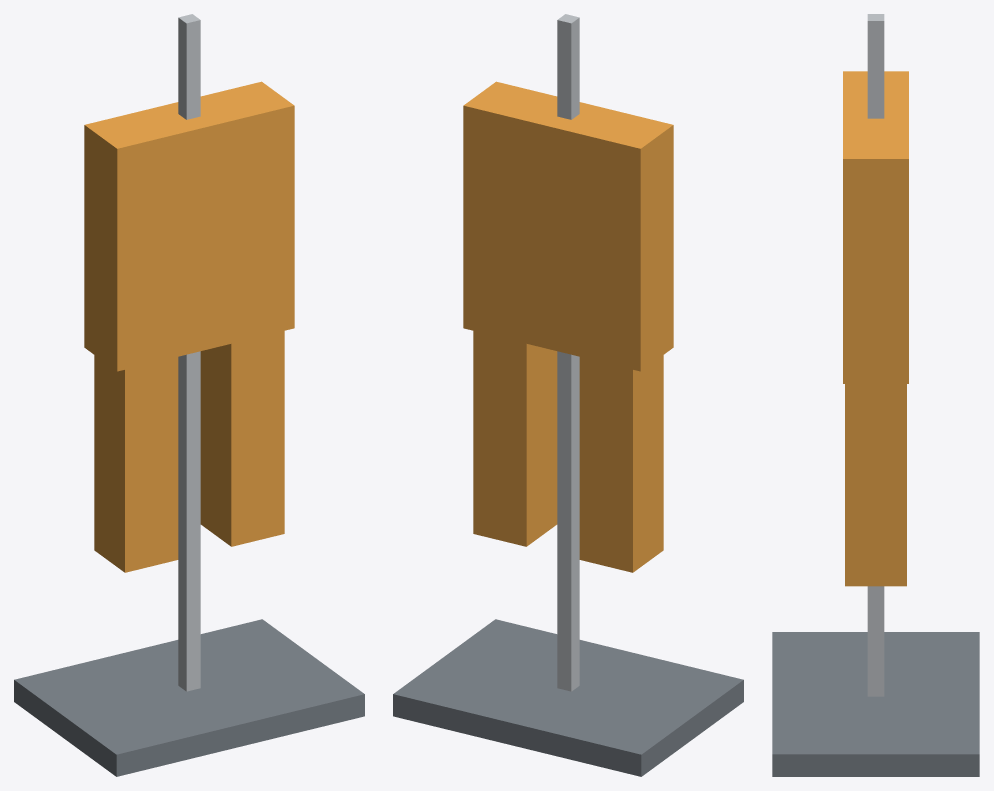
File: mech-hangar-and-battle-frames-flight-suit-stand-4b564240__26995.glb
3 renders of one model, left to right at view 1: azimuth 30°, elevation 25°; view 2: azimuth 150°, elevation 25°; view 3: azimuth 270°, elevation 25°, orthographic.
Visible parts, largest first — view 1: flight-suit-stand; view 2: flight-suit-stand; view 3: flight-suit-stand.
Boxes of the visible parts, x1,y1,x2,y2 form: flight-suit-stand: (14, 14, 364, 776); flight-suit-stand: (393, 14, 743, 776); flight-suit-stand: (772, 14, 979, 776).
Bounding box in the file's own units: 0.7 × 1.86 × 0.5.
